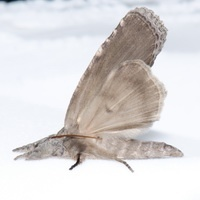insect: (13, 7, 182, 171)
